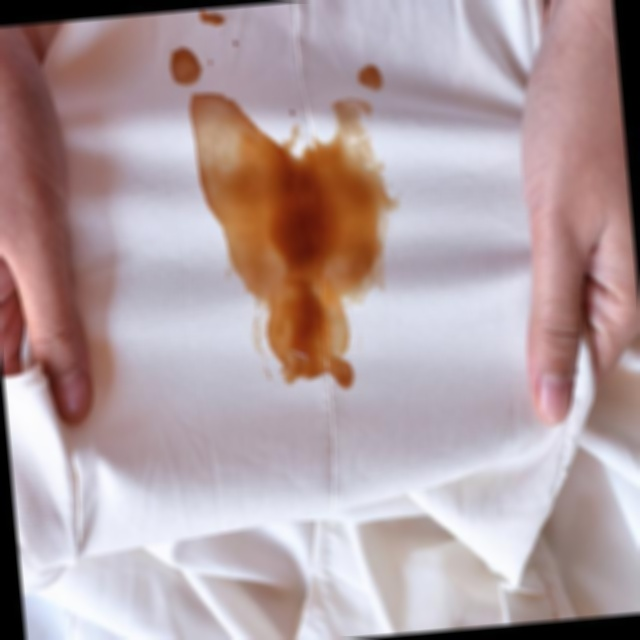coffee: (225, 102, 384, 401), (165, 45, 203, 86), (356, 61, 386, 89)
